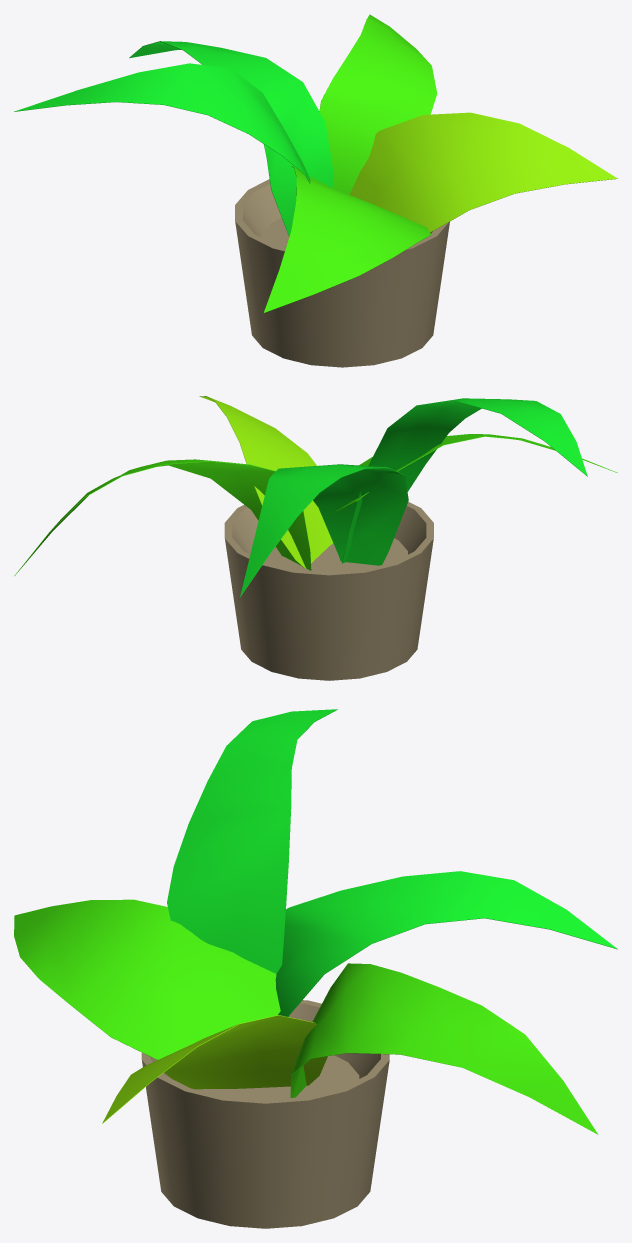
The model's file is Plant-Potted.FBX.
3 views of the same model, one above another, from view 1: azimuth 30°, elevation 25°; view 2: azimuth 150°, elevation 25°; view 3: azimuth 270°, elevation 25° (orthographic). The views are drawn at different scales.
Visible parts, largest first — view 1: PottedPlant; view 2: PottedPlant; view 3: PottedPlant.
Part boxes in pixels (x1,y1,x2,y2): PottedPlant: [14, 14, 617, 367]; PottedPlant: [14, 396, 617, 680]; PottedPlant: [14, 709, 617, 1228].
Size of the model in its own units: 0.6952 by 0.6284 by 0.3874.
Materials: 1 (1 with a texture image).
